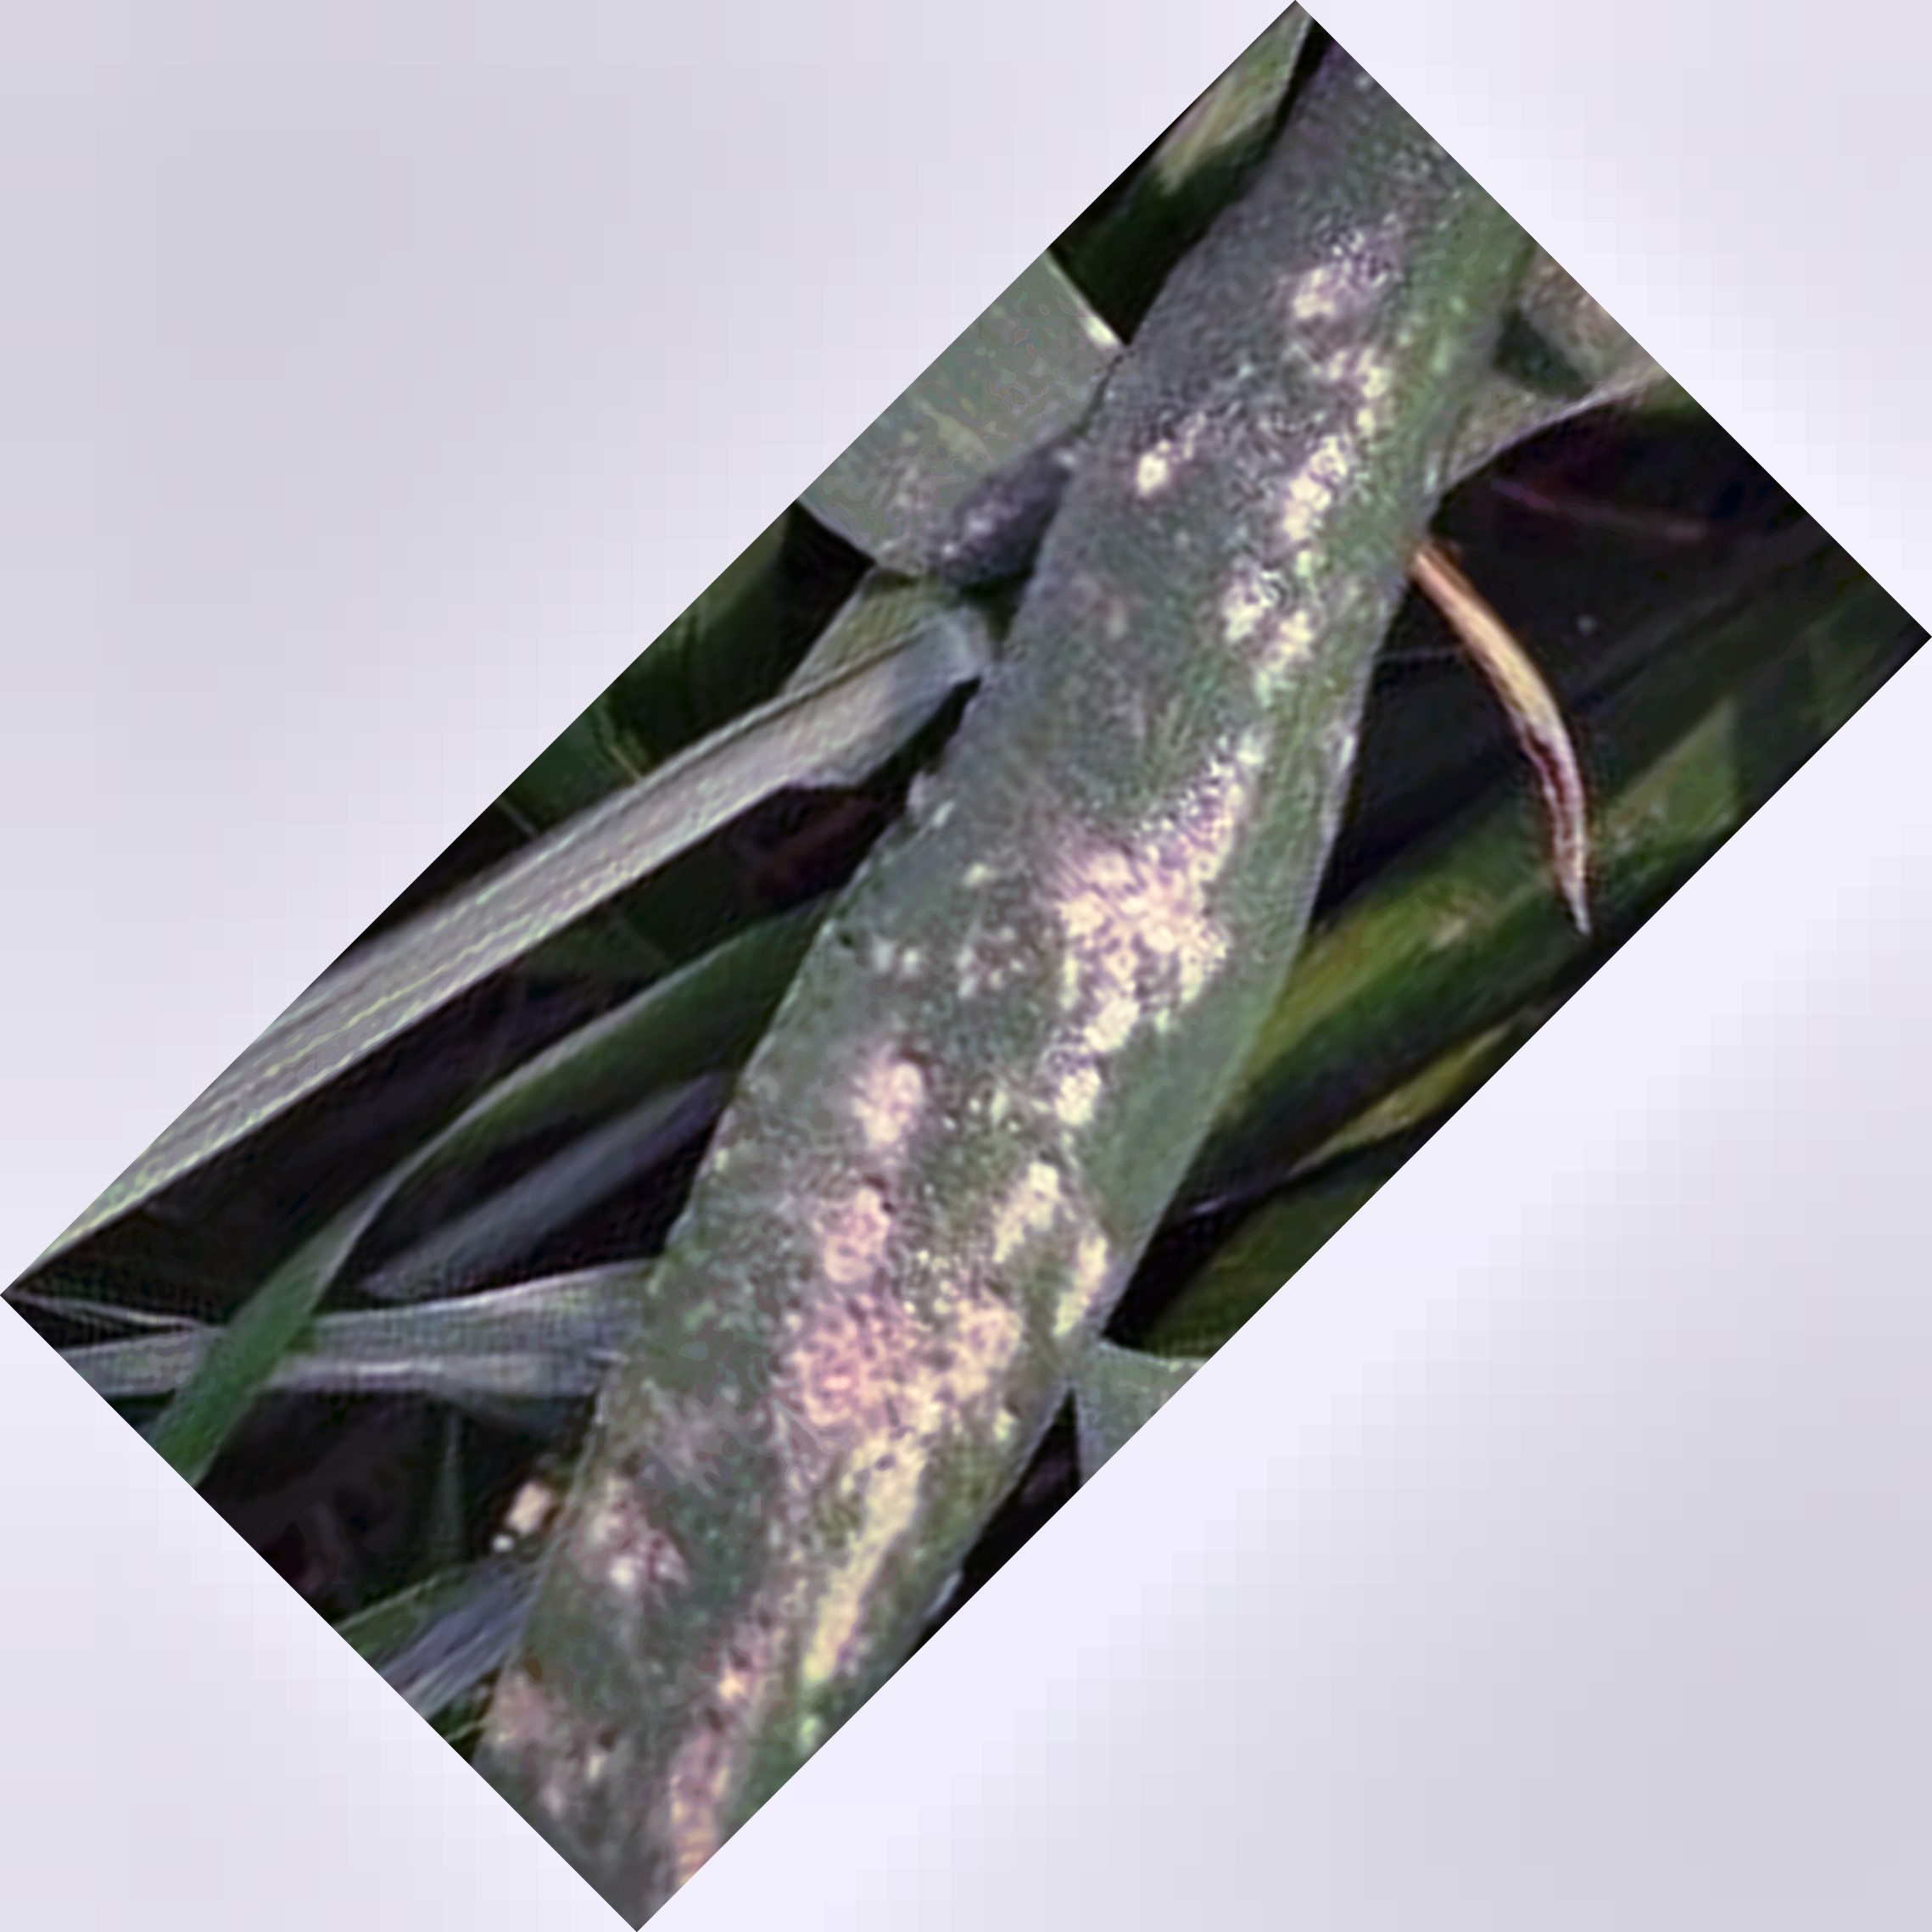Powdery Mildew: (727, 366, 1414, 1594)
